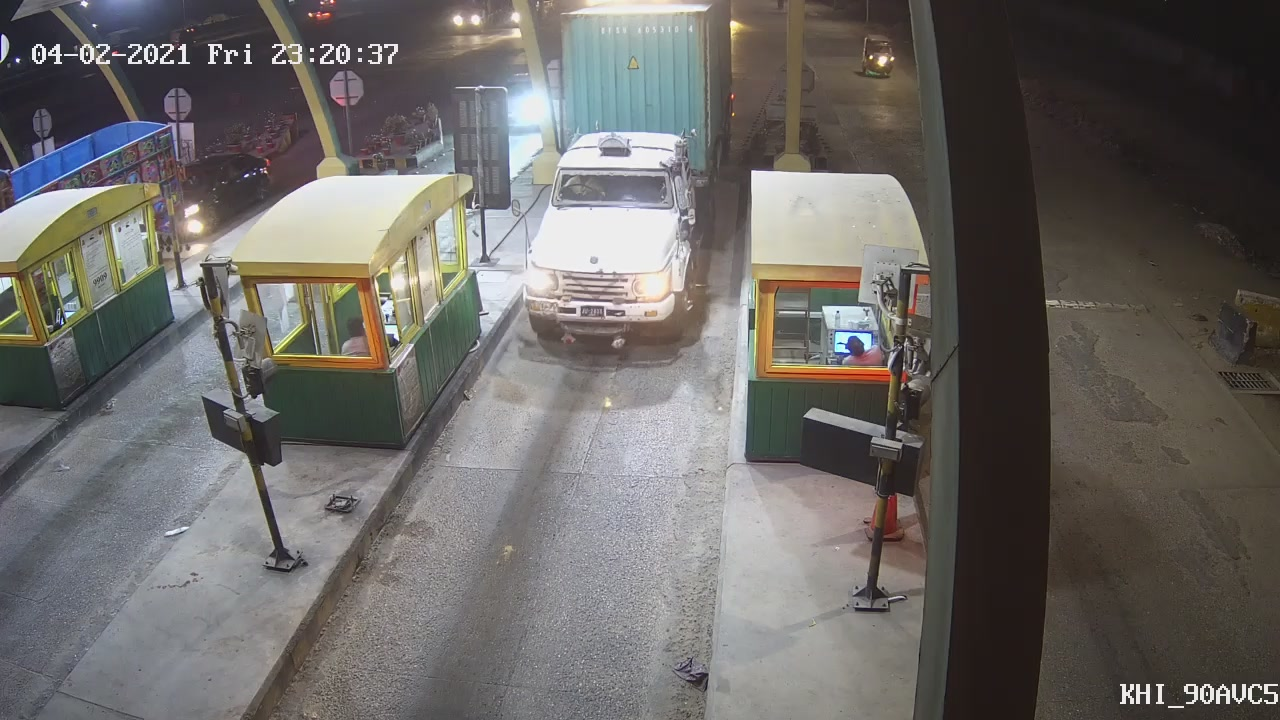F6: (501, 1, 737, 348)
